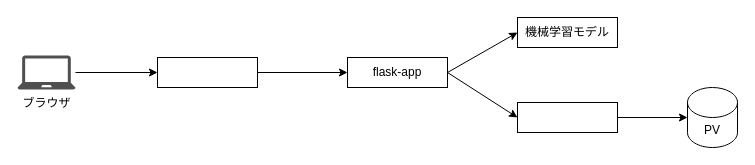
The diagram is 755 pixels wide and 165 high, and some of its shapes have lost their labels. Here are the shapes that lost their labels. From the top down, the box of each, then its label:
(156, 56, 258, 88): nodejs
(516, 102, 618, 132): mongoDB
